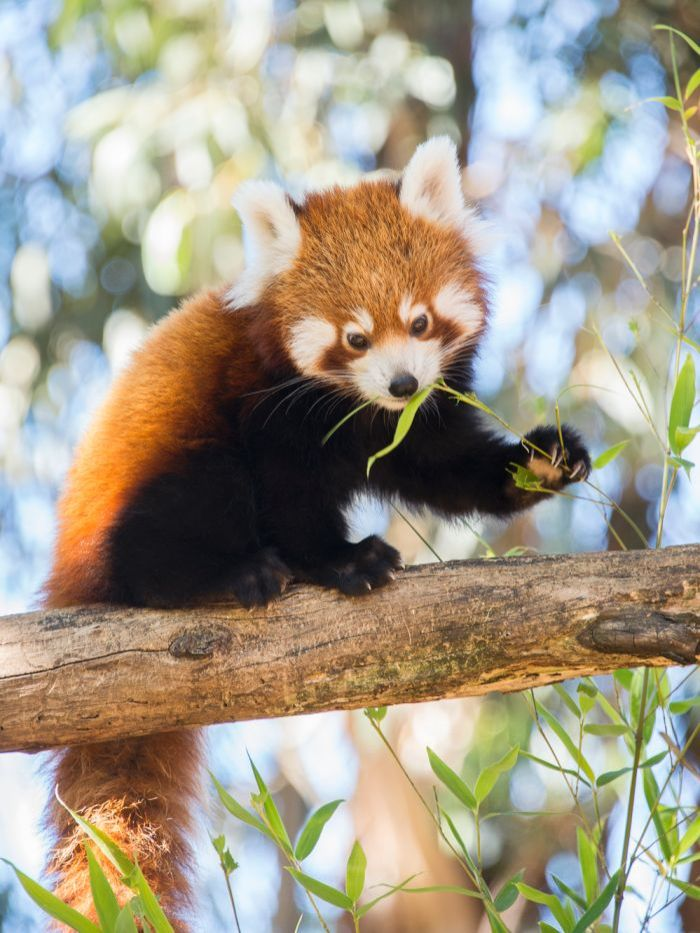red_panda: (52, 193, 501, 894)
